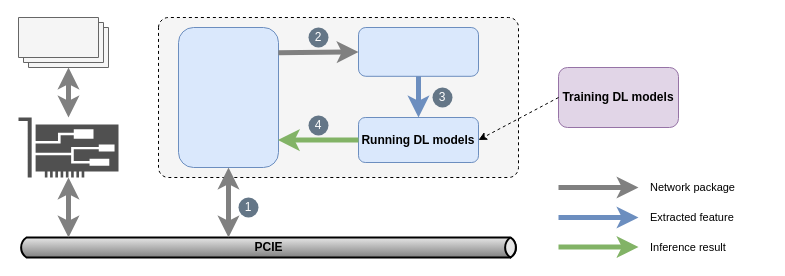
The diagram is 785 pixels wide and 276 high, and some of its shapes have lost their labels. Each missing label, with the box of its shape:
Feature extraction (Raw traffic feature): (358, 26, 478, 76)
Flow manager: (178, 26, 278, 168)
Packets: (18, 16, 108, 68)
